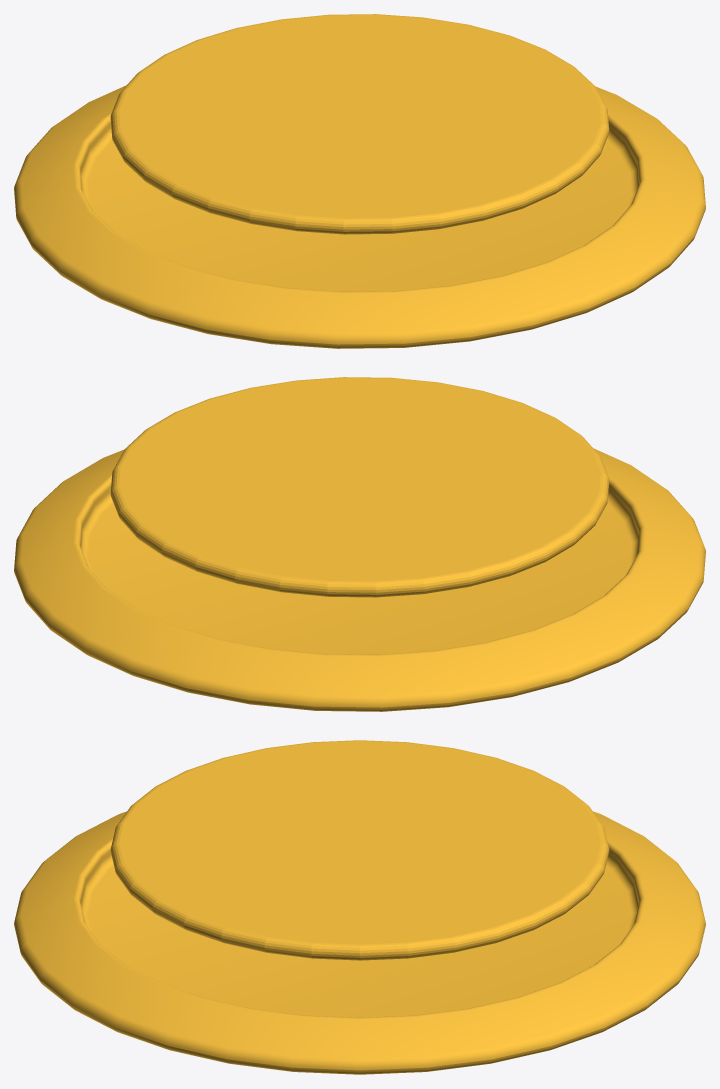
File: Plaque de pression.fbx
The picture shows the model from 3 angles, top to bottom: view 1: azimuth 30°, elevation 25°; view 2: azimuth 150°, elevation 25°; view 3: azimuth 270°, elevation 25°; orthographic projection.
Parts seen in each view (by area): view 1: Plateau plaque de pression, Base plaque de pression; view 2: Plateau plaque de pression, Base plaque de pression; view 3: Plateau plaque de pression, Base plaque de pression.
Boxes of the visible parts, x1,y1,x2,y2 form: Plateau plaque de pression: (14, 85, 705, 348); Base plaque de pression: (110, 14, 609, 234); Plateau plaque de pression: (14, 448, 705, 711); Base plaque de pression: (110, 377, 609, 597); Plateau plaque de pression: (14, 811, 705, 1074); Base plaque de pression: (110, 740, 609, 960).
Bounding box in the file's own units: 270 × 38 × 270.
